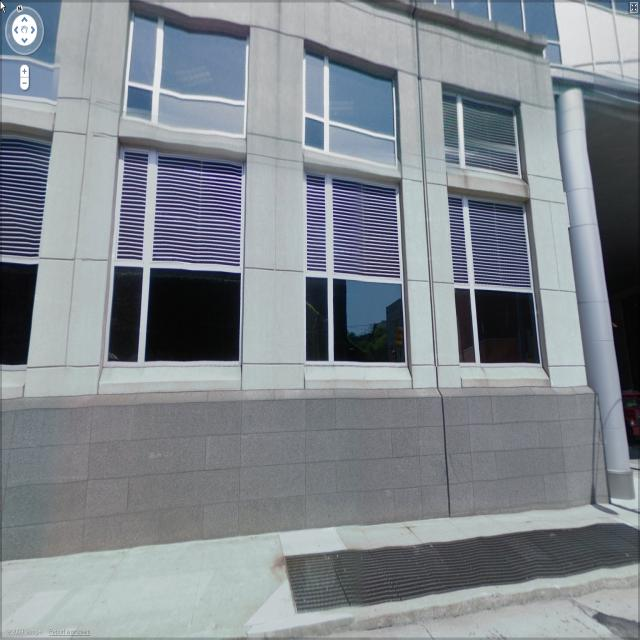window: (100, 156, 246, 373), (297, 181, 405, 371), (122, 7, 250, 140), (442, 199, 536, 378), (303, 39, 403, 174), (1, 127, 58, 336), (440, 82, 524, 182)
